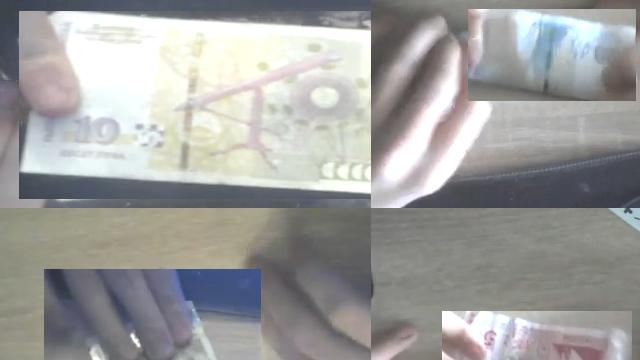10leva: (19, 11, 371, 197), (44, 269, 220, 360)
20leva: (468, 9, 636, 101)
5leva: (468, 311, 632, 360)
